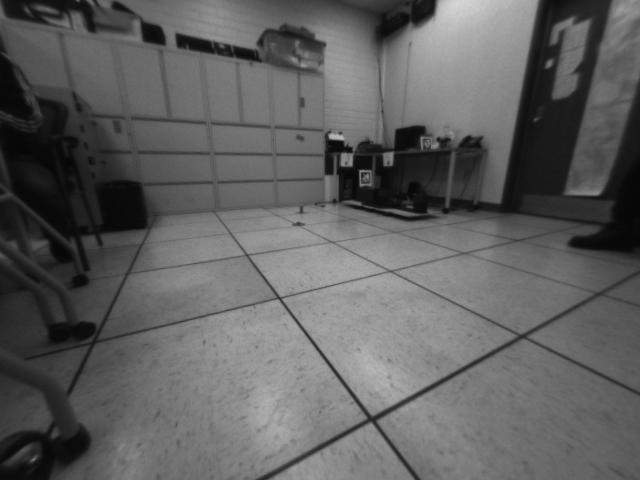X: (296, 206, 308, 214)
